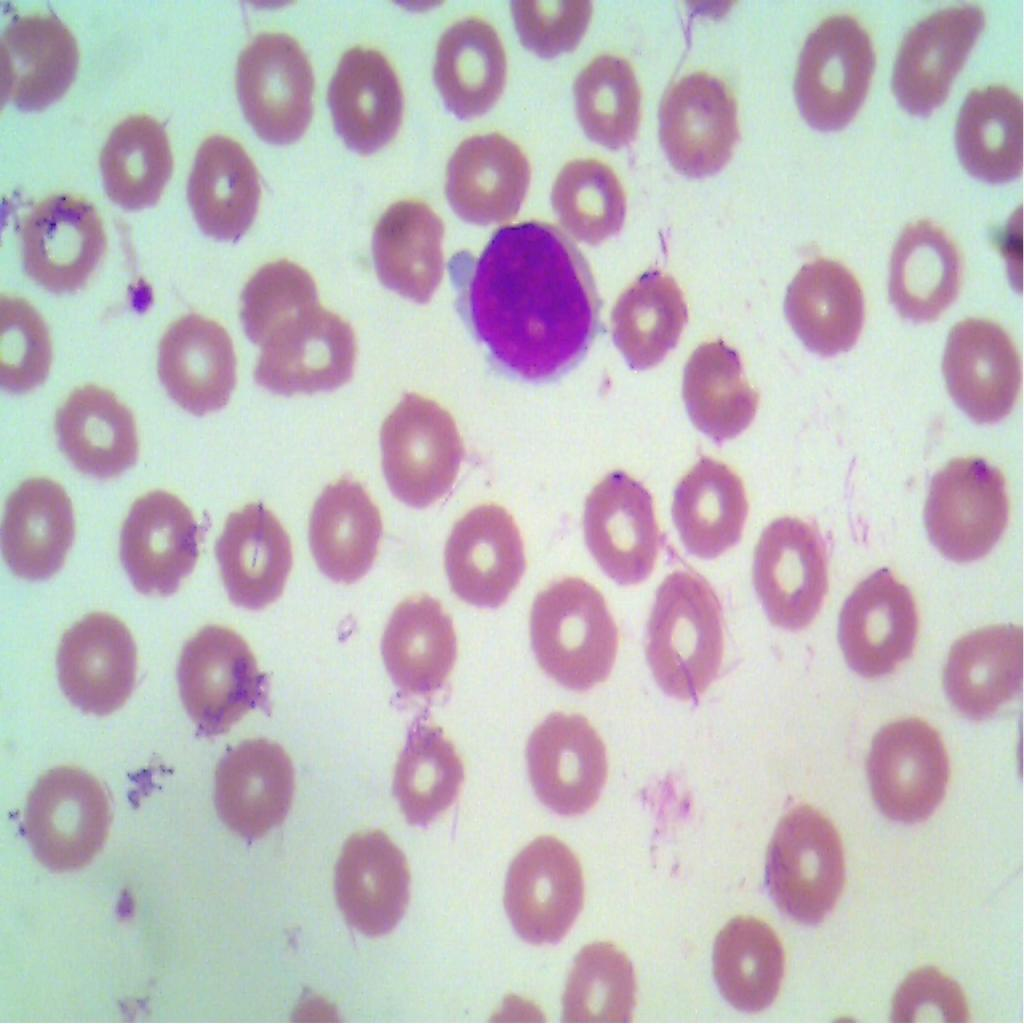Eritrosit: (218, 23, 326, 158), (782, 0, 875, 145), (642, 562, 731, 711), (526, 581, 638, 698), (741, 501, 833, 642), (168, 614, 266, 744), (918, 447, 1019, 572), (204, 729, 306, 851), (648, 60, 746, 186), (859, 710, 963, 828), (761, 795, 850, 932), (783, 245, 874, 378), (576, 455, 666, 589), (4, 177, 113, 287), (300, 468, 390, 601), (50, 604, 144, 728), (316, 38, 418, 152), (331, 818, 418, 951), (888, 0, 986, 118), (434, 505, 546, 608), (501, 834, 595, 955), (354, 189, 448, 308), (376, 710, 466, 832), (206, 491, 300, 607), (835, 554, 919, 682), (938, 312, 1023, 434), (48, 378, 142, 488), (429, 14, 523, 124), (149, 305, 238, 421), (883, 215, 971, 332), (18, 762, 108, 876), (111, 484, 199, 598), (248, 305, 354, 398), (179, 134, 264, 248), (944, 612, 1023, 734), (0, 5, 90, 111), (378, 390, 466, 497), (708, 909, 791, 1021), (613, 262, 695, 374), (0, 465, 74, 589), (561, 50, 649, 154), (528, 710, 613, 817), (664, 451, 744, 564), (379, 580, 458, 692), (438, 130, 531, 224), (684, 335, 766, 440), (98, 105, 170, 224), (946, 82, 1024, 191), (544, 147, 629, 241), (243, 251, 321, 337), (0, 288, 55, 407), (568, 935, 638, 1023)
Limfoblast: (470, 212, 609, 378)
Platelet: (98, 877, 144, 928), (119, 268, 156, 314)
